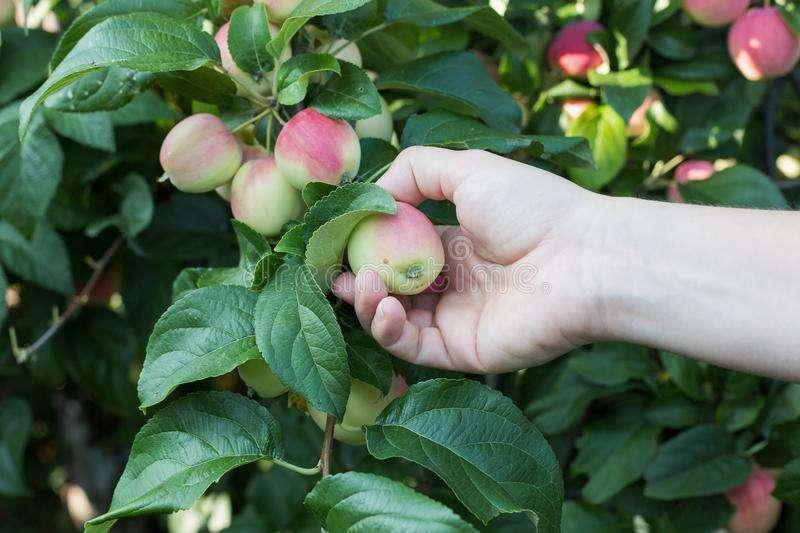apple: (345, 199, 448, 296), (272, 106, 361, 195), (230, 155, 302, 239)
